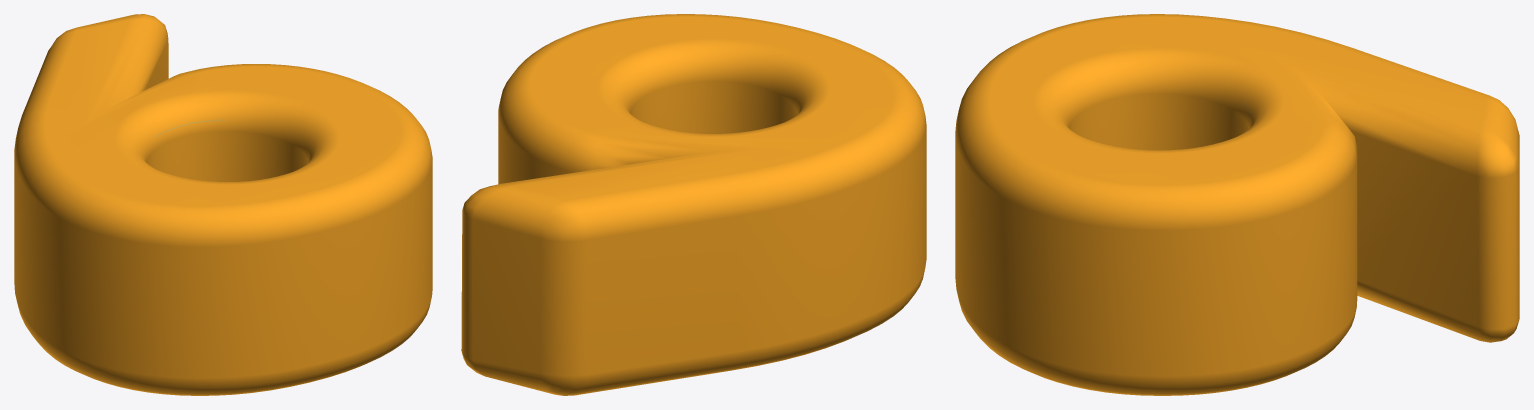
The model's file is Six.fbx.
3 renders of one model, left to right at view 1: azimuth 30°, elevation 25°; view 2: azimuth 150°, elevation 25°; view 3: azimuth 270°, elevation 25°, orthographic. The views are drawn at different scales.
Visible parts, largest first — view 1: polySurface6; view 2: polySurface6; view 3: polySurface6.
Part boxes in pixels (bbox=[...]): polySurface6: bbox=[14, 14, 432, 395]; polySurface6: bbox=[461, 14, 926, 395]; polySurface6: bbox=[955, 14, 1519, 395].
Size of the model in its own units: 0.492 by 0.2429 by 0.5967.
Materials: 1 (1 with a texture image).
